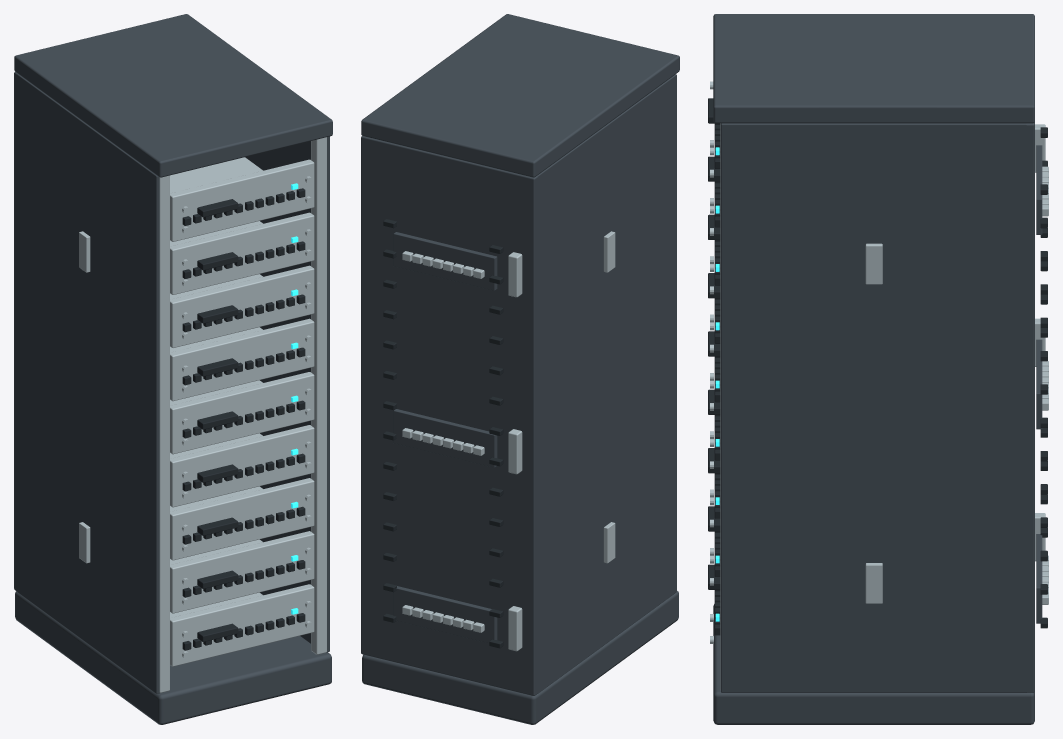
The model's file is data-centre-infiltration-kit-data-centre-infiltration--7a604024__29228.glb.
3 views of the same model, side by side, from view 1: azimuth 30°, elevation 25°; view 2: azimuth 150°, elevation 25°; view 3: azimuth 270°, elevation 25° (orthographic). The views are drawn at different scales.
Parts seen in each view (by area): view 1: data-centre-infiltration-kit-network-rack; view 2: data-centre-infiltration-kit-network-rack; view 3: data-centre-infiltration-kit-network-rack.
Boxes of the visible parts, x1,y1,x2,y2 form: data-centre-infiltration-kit-network-rack: (14,14,332,724); data-centre-infiltration-kit-network-rack: (361,14,679,724); data-centre-infiltration-kit-network-rack: (708,14,1048,724).
Bounding box in the file's own units: 0.754 × 2.23 × 1.11.
